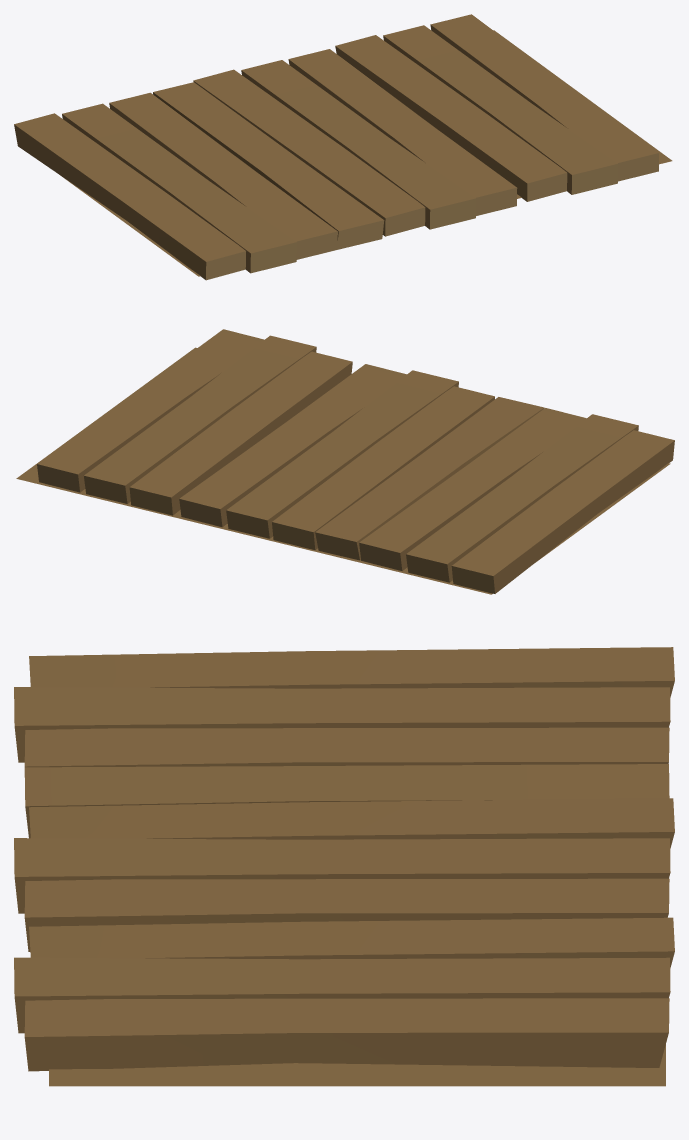
The model's file is woodenhut_roof.glb.
The picture shows the model from 3 angles, top to bottom: view 1: azimuth 30°, elevation 25°; view 2: azimuth 150°, elevation 25°; view 3: azimuth 270°, elevation 25°; orthographic projection. The views are drawn at different scales.
Visible parts, largest first — view 1: Houses_FirstAge_3_Level3.001; view 2: Houses_FirstAge_3_Level3.001; view 3: Houses_FirstAge_3_Level3.001.
Part boxes in pixels (x1,y1,x2,y2): Houses_FirstAge_3_Level3.001: (14, 14, 672, 280); Houses_FirstAge_3_Level3.001: (16, 329, 674, 594); Houses_FirstAge_3_Level3.001: (14, 647, 674, 1086).
Size of the model in its own units: 4.32 by 0.3848 by 3.
